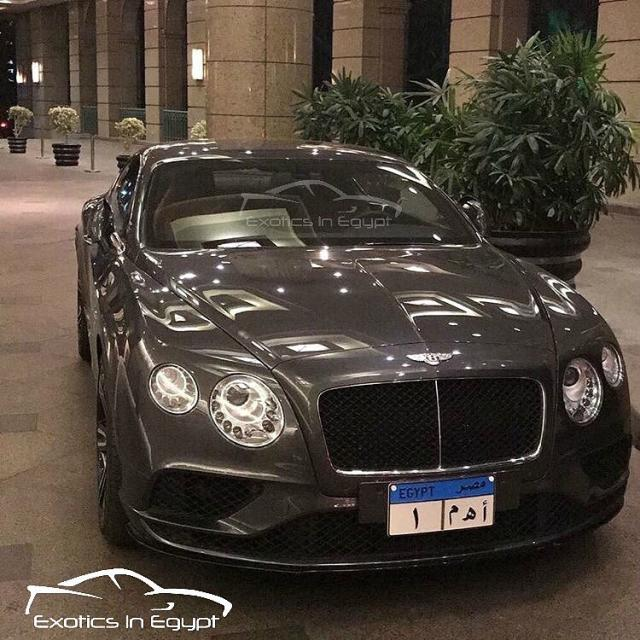License Plate: (383, 473, 499, 538)
